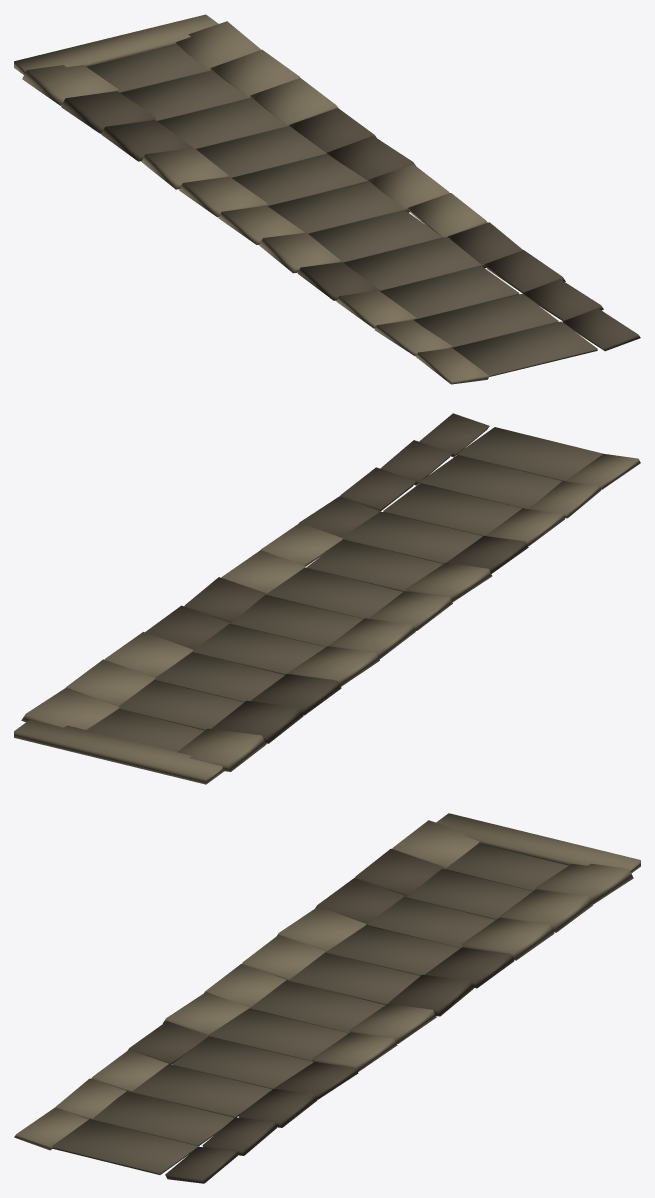
Rendered from boat-mark.glb.
The picture shows the model from 3 angles, top to bottom: view 1: azimuth 30°, elevation 25°; view 2: azimuth 150°, elevation 25°; view 3: azimuth 330°, elevation 25°; orthographic projection.
Parts seen in each view (by area): view 1: 씬4.배자국; view 2: 씬4.배자국; view 3: 씬4.배자국.
Boxes of the visible parts, x1=… form: 씬4.배자국: x1=14, y1=14, x2=640, y2=384; 씬4.배자국: x1=14, y1=413, x2=640, y2=784; 씬4.배자국: x1=14, y1=813, x2=640, y2=1183.
Size of the model in its own units: 1.32 by 0.085 by 4.76.
